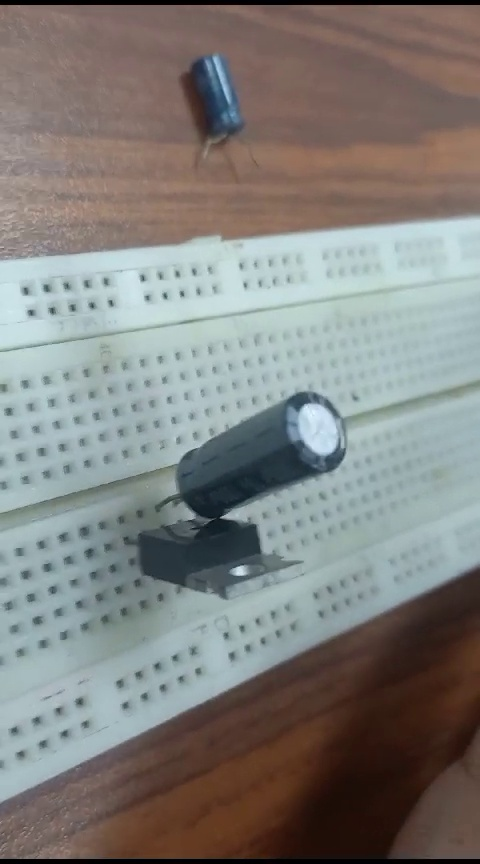capacitor: (163, 393, 350, 513), (166, 40, 267, 181)
voltage regulator: (116, 516, 306, 592)
